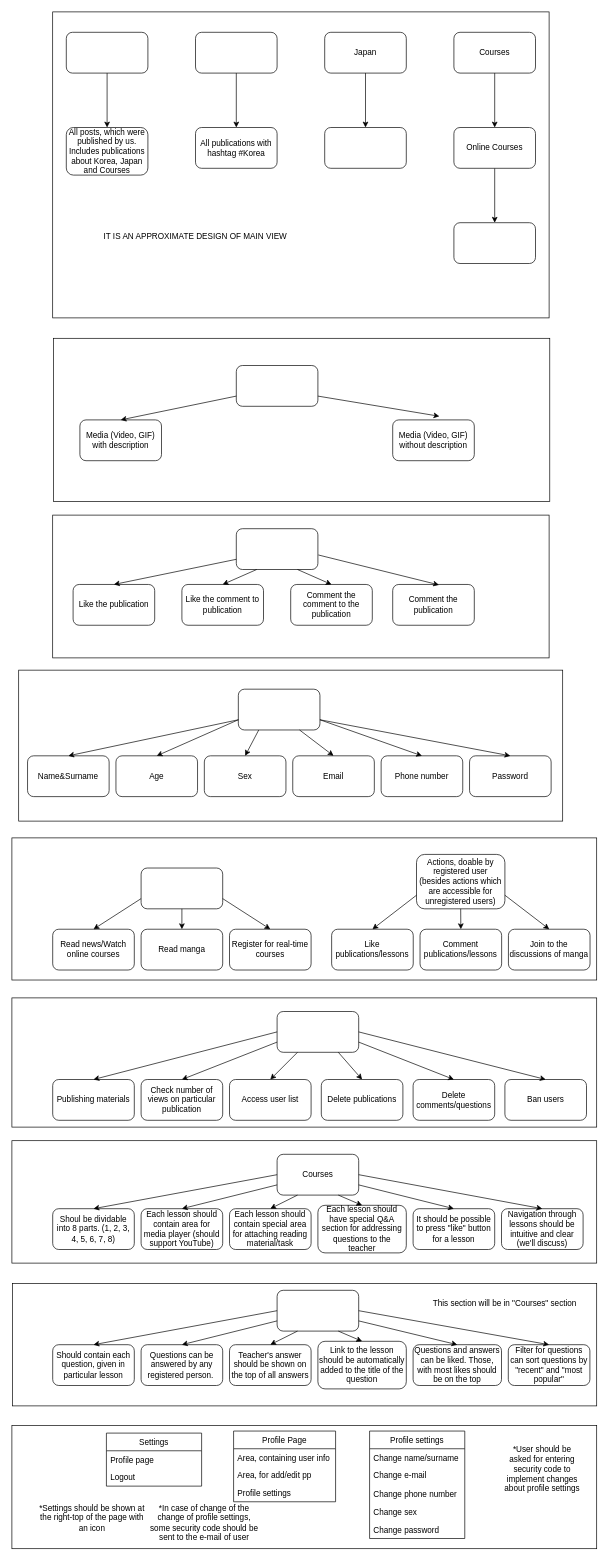
Some shapes in this 609 by 1561 pixel diagram are drawn without their labels. Here are the shapes that lost their labels. From the top down, the centre of each, then its label:
point 107,52: Feed
point 236,52: Korea
point 365,147: All publications with hashtag #Japan
point 494,243: Registration for real-time courses
point 277,385: Type of publications
point 277,549: Interaction with publication
point 279,709: Registration of the user to web-site
point 181,888: Actions, doable by unregistered user
point 317,1031: Admin rights
point 317,1310: General Q&A section
